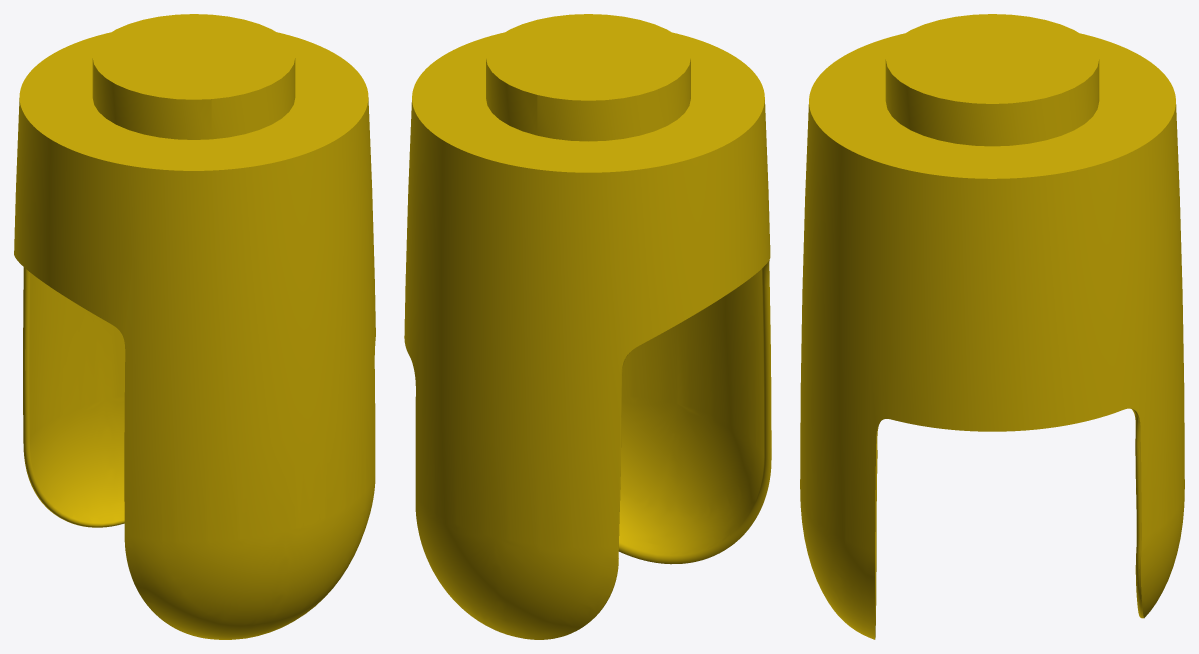
Rendered from armr2.glb.
3 renders of one model, left to right at view 1: azimuth 30°, elevation 25°; view 2: azimuth 150°, elevation 25°; view 3: azimuth 270°, elevation 25°, orthographic. The views are drawn at different scales.
Parts seen in each view (by area): view 1: right_j2; view 2: right_j2; view 3: right_j2.
Part boxes in pixels (x1,y1,x2,y2): right_j2: (14, 14, 375, 639); right_j2: (404, 14, 771, 639); right_j2: (800, 14, 1184, 639).
Bounding box in the file's own units: 0.1098 × 0.1805 × 0.1111.
